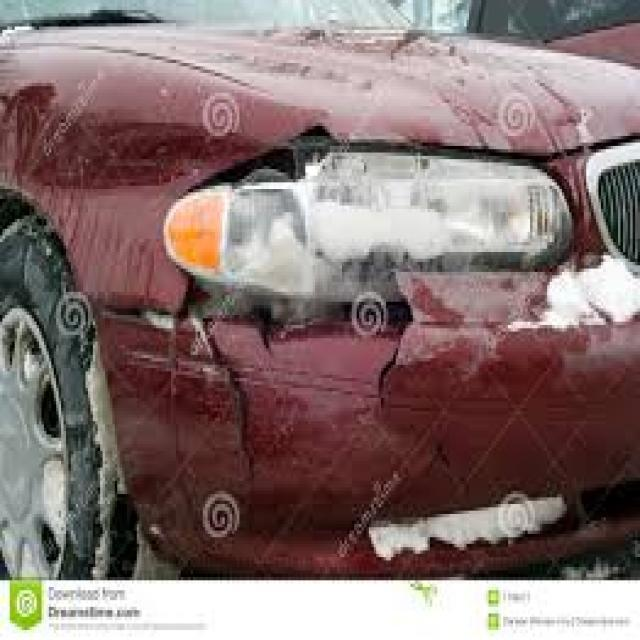damaged-head-light: (169, 127, 584, 289)
